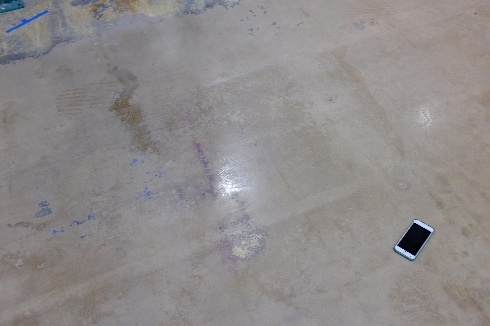phone: (392, 223, 441, 255)
